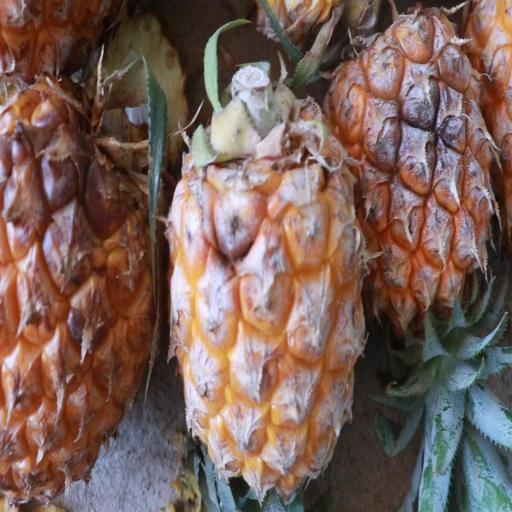Pineapple - v8 v1: (167, 78, 368, 512), (0, 76, 164, 512), (316, 3, 500, 388)
